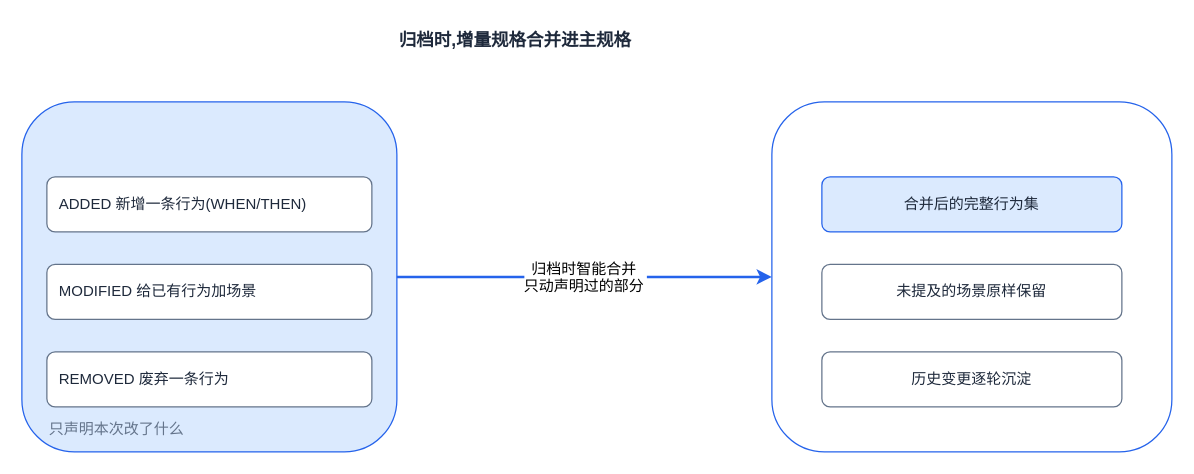
Some shapes in this 1194 by 474 pixel diagram are drawn without their labels. The shapes that lost their labels are listed below. From the top down, each one's box as (x1, y1, x2, y2) in pixels, then its label:
(21, 101, 397, 452): change 增量规格 changes/当前变更/
(771, 101, 1172, 452): 主规格(能力宪法) specs/当前能力/spec.md
